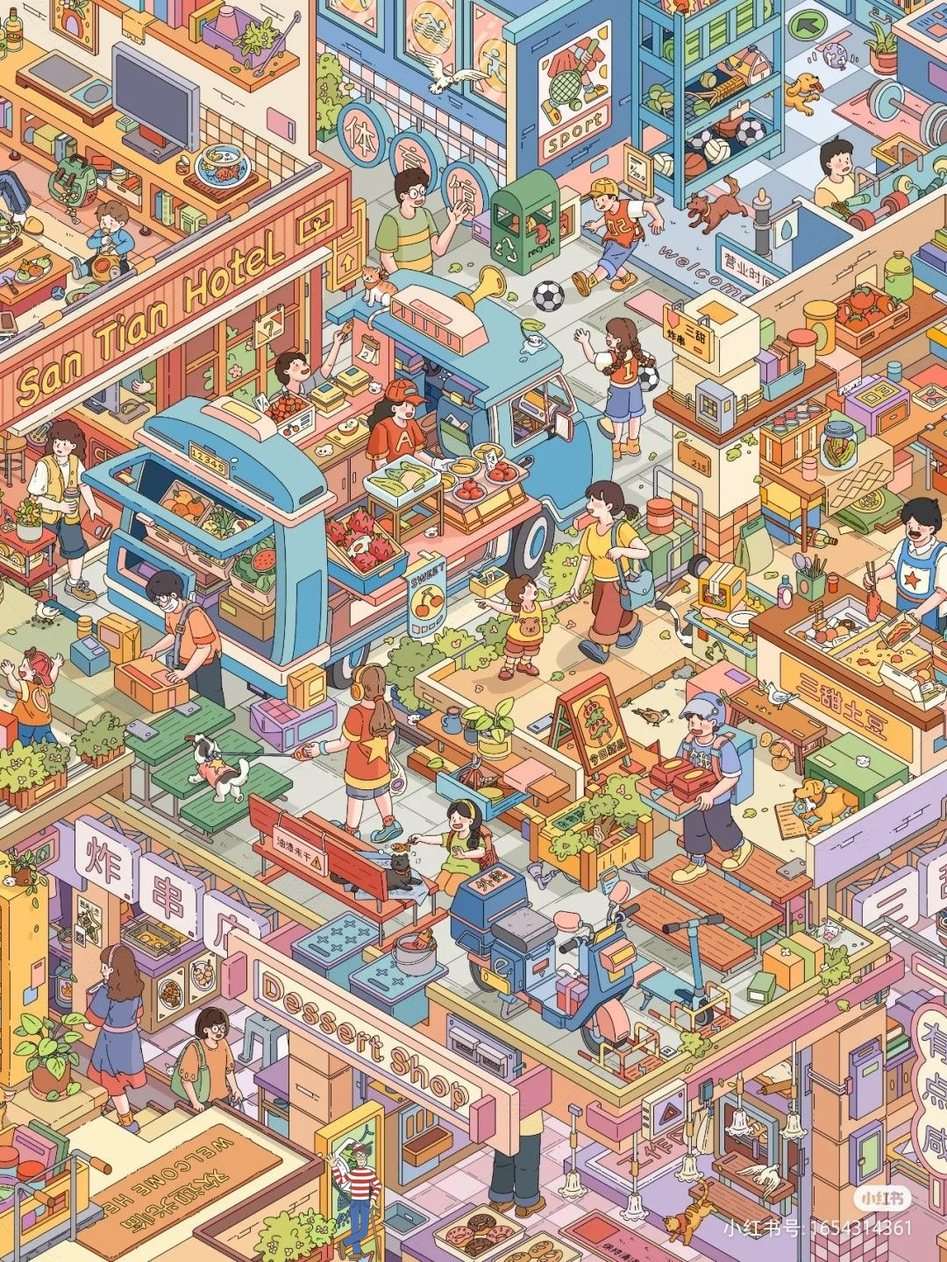waldo: (324, 1141, 382, 1261)
